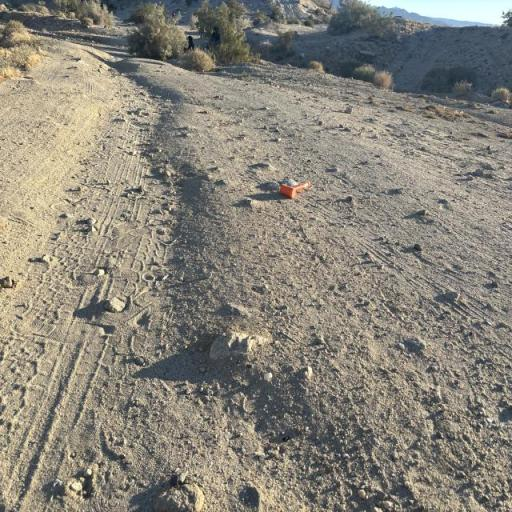mallet: (279, 178, 314, 201)
